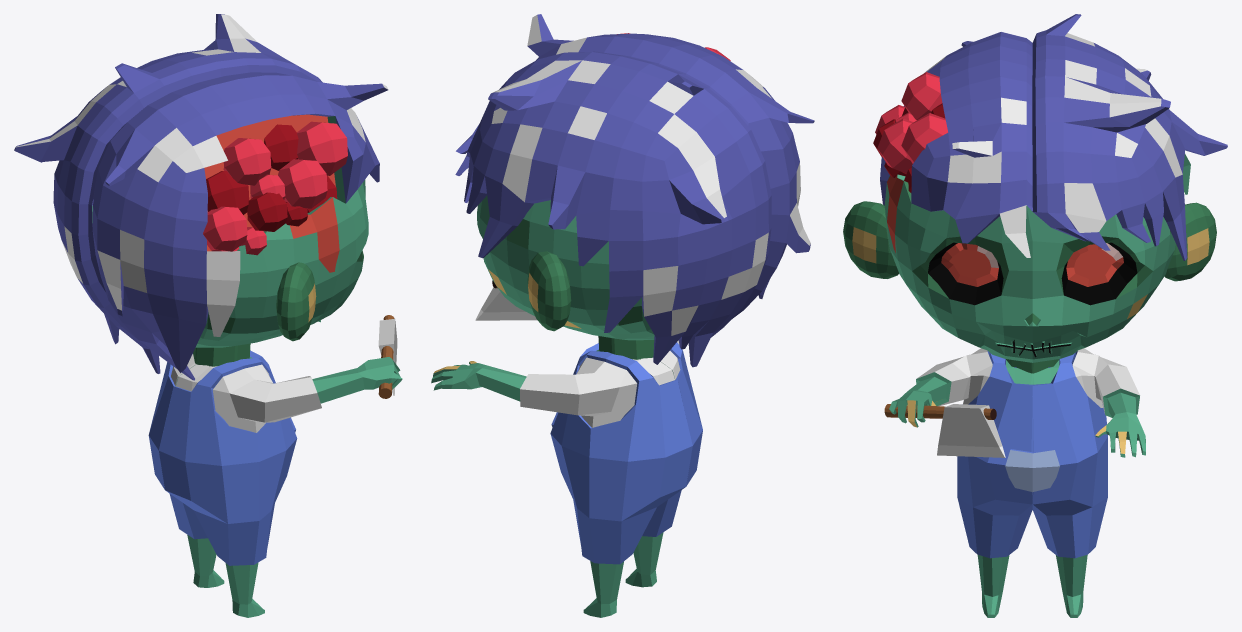
Rendered from ZOMBIE 4.fbx.
3 renders of one model, left to right at view 1: azimuth 30°, elevation 25°; view 2: azimuth 150°, elevation 25°; view 3: azimuth 270°, elevation 25°, orthographic. The views are drawn at different scales.
Parts seen in each view (by area): view 1: head, body, hacha; view 2: head, body, hacha; view 3: head, body, hacha.
Boxes of the visible parts, x1,y1,x2,y2 form: head: (14,14,388,380); body: (148,320,402,617); hacha: (378,315,397,398); head: (455,14,814,367); body: (431,340,702,617); hacha: (475,280,536,320); head: (843,14,1227,373); body: (889,348,1145,617); hacha: (884,404,1005,457).
Size of the model in its own units: 89.67 by 147 by 92.72.
